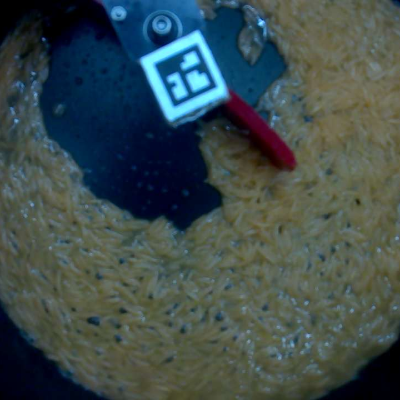stirrer: (96, 1, 247, 128)
